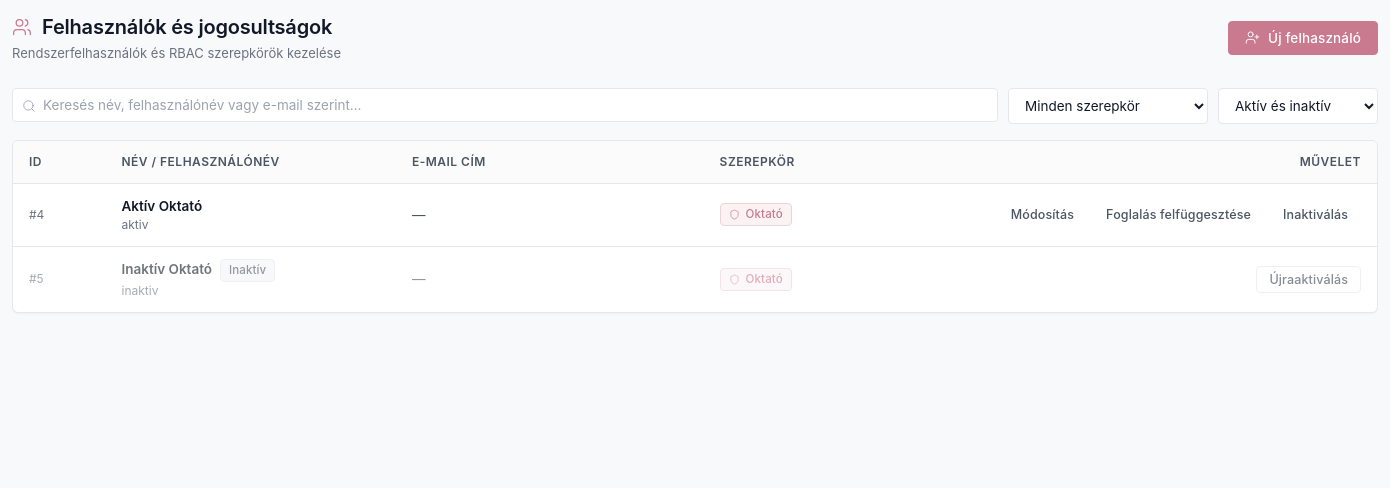
Scenario: UsersPage › sends the role change in the field the backend expects
The width and height of the screenshot is (1390, 488).
Click the button "Módosítás" at (1042, 215), box [998, 201, 1087, 228]
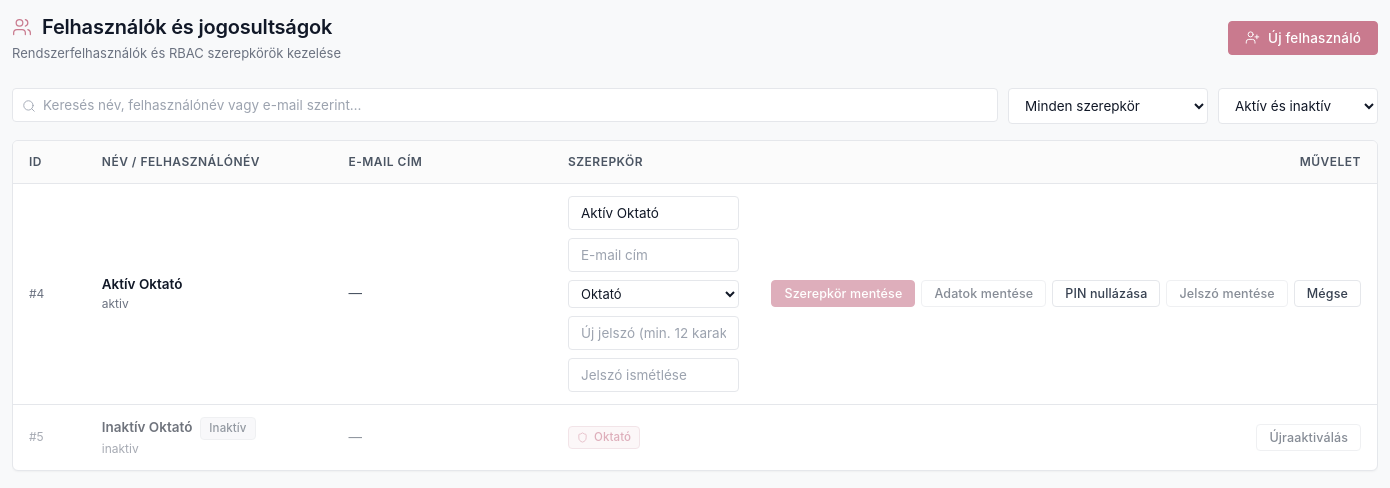
Select "Portás" in the dropdown named "Aktív Oktató szerepköre" at (654, 294), box [568, 280, 739, 308]
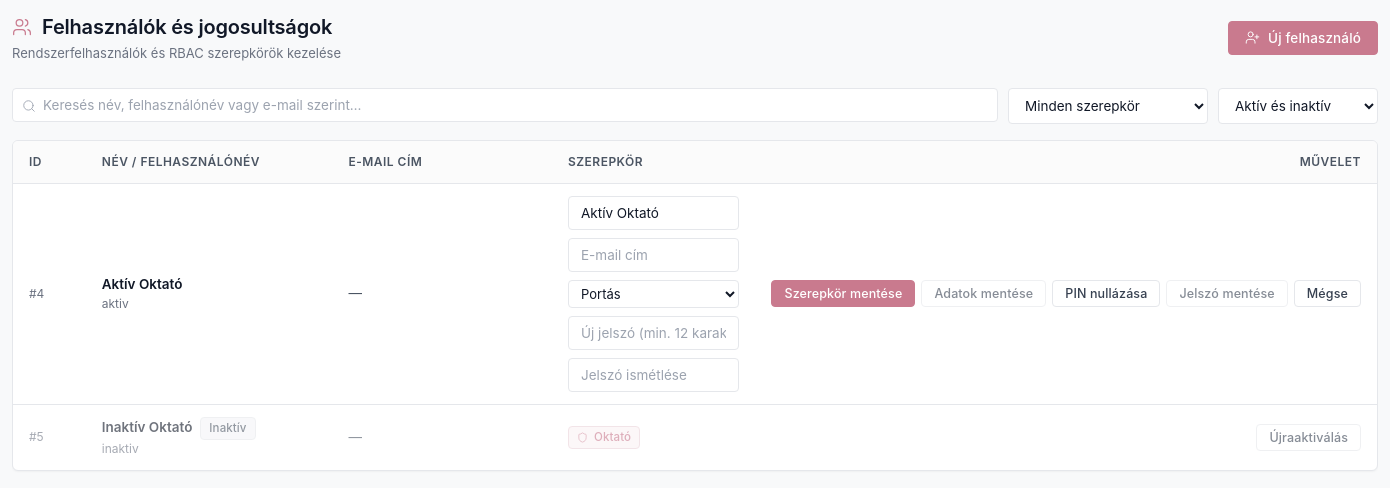
Click the button "Szerepkör mentése" at (843, 294), box [772, 280, 915, 307]
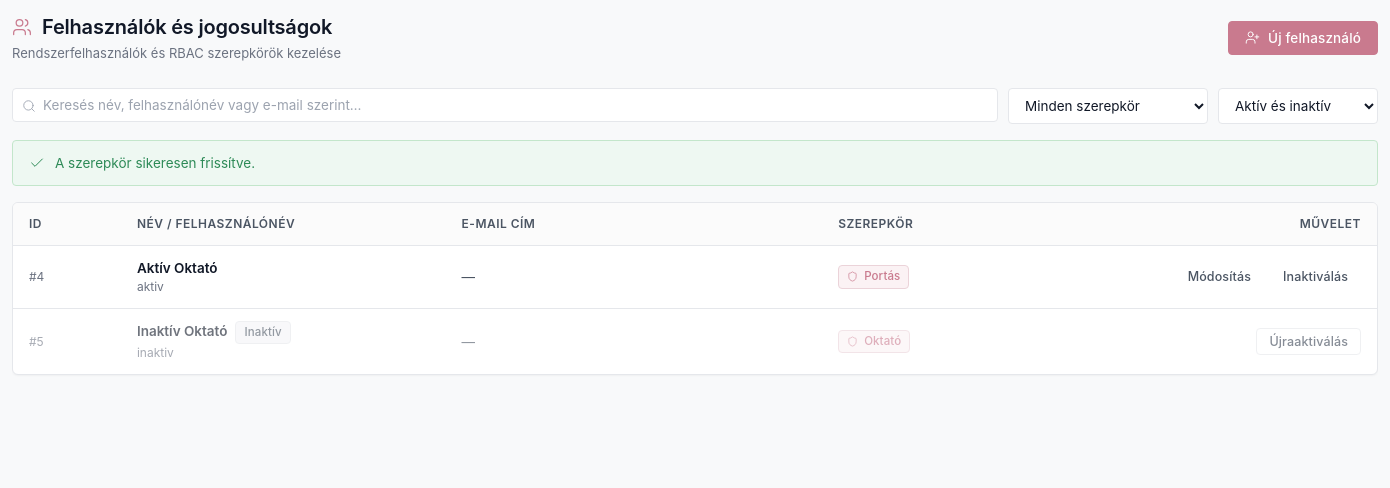
Expected: the text "A szerepkör sikeresen frissítve." is shown, [55, 152, 255, 173]
